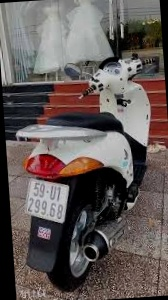Bien-so: (19, 175, 74, 229)
